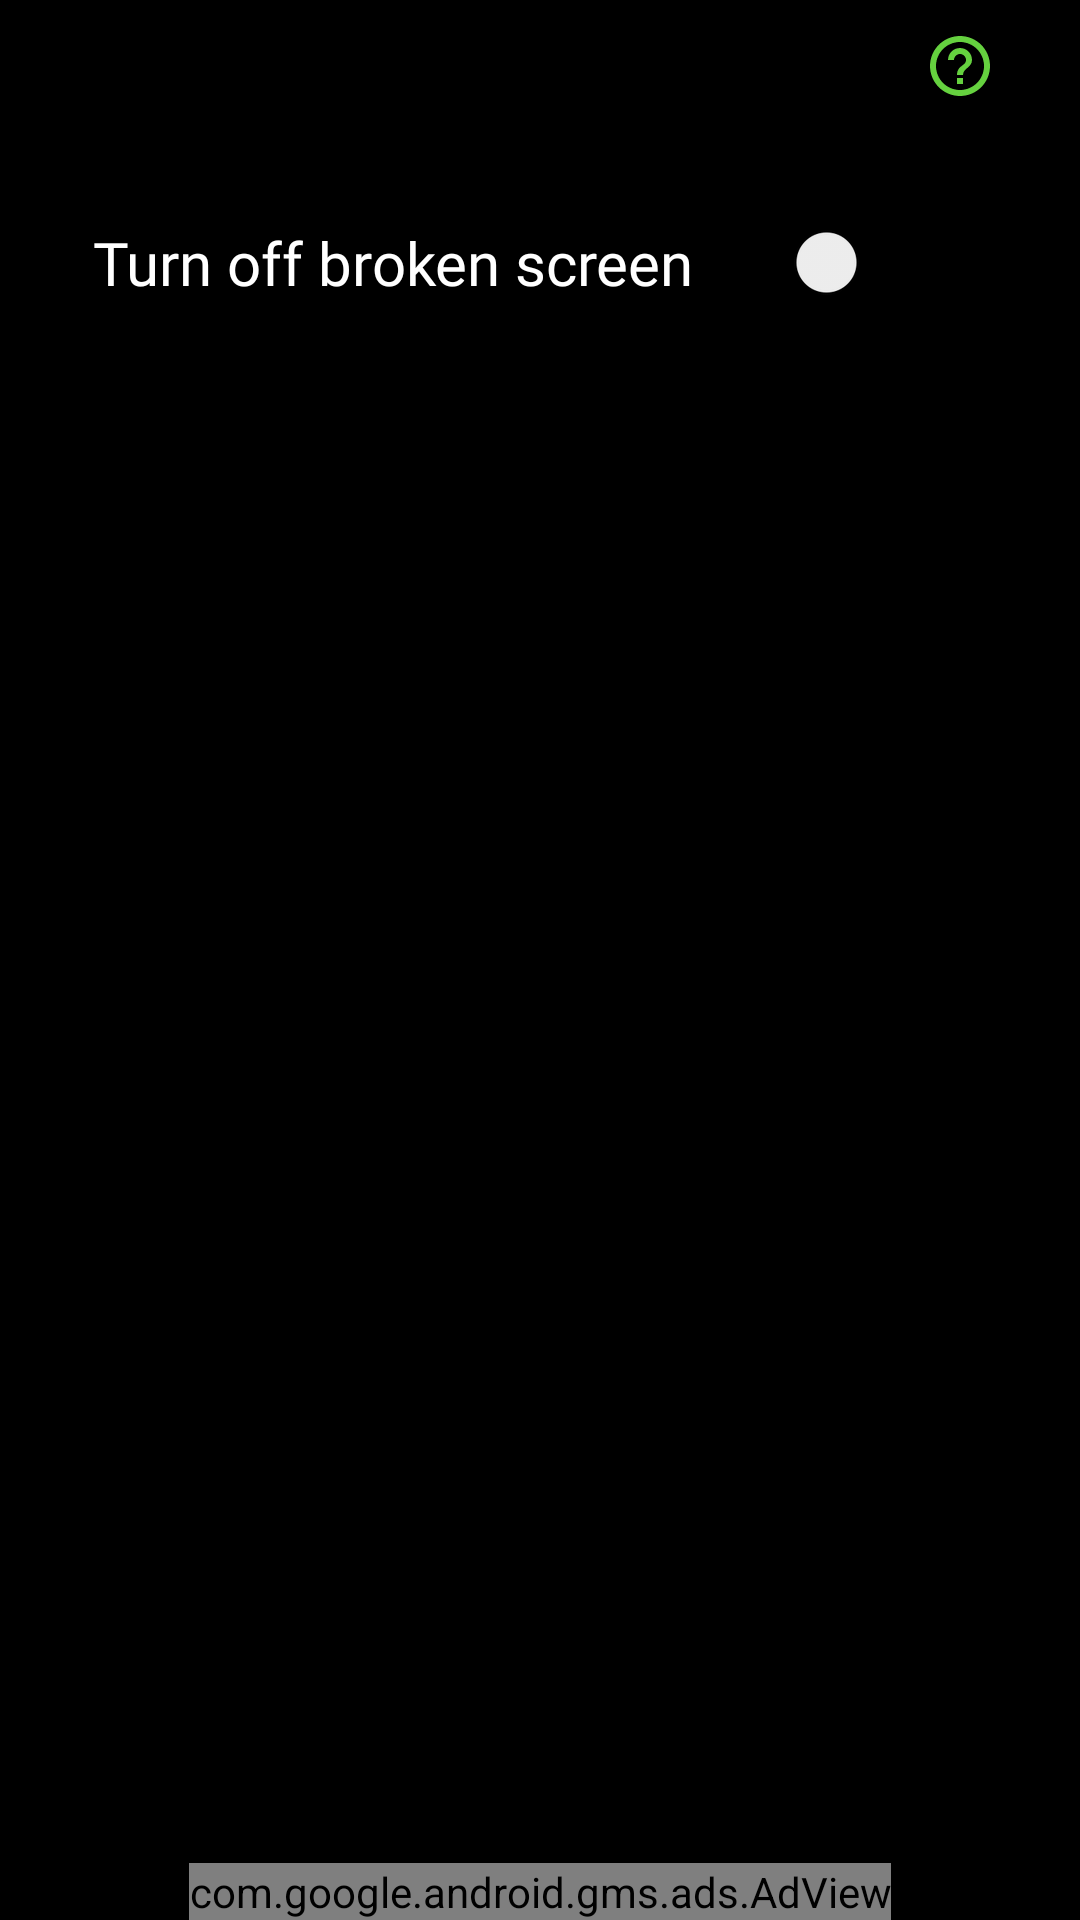

Named icons in this screenshot (1080px×1920px) and their centers, point (x, y):
help: point (960, 66)
